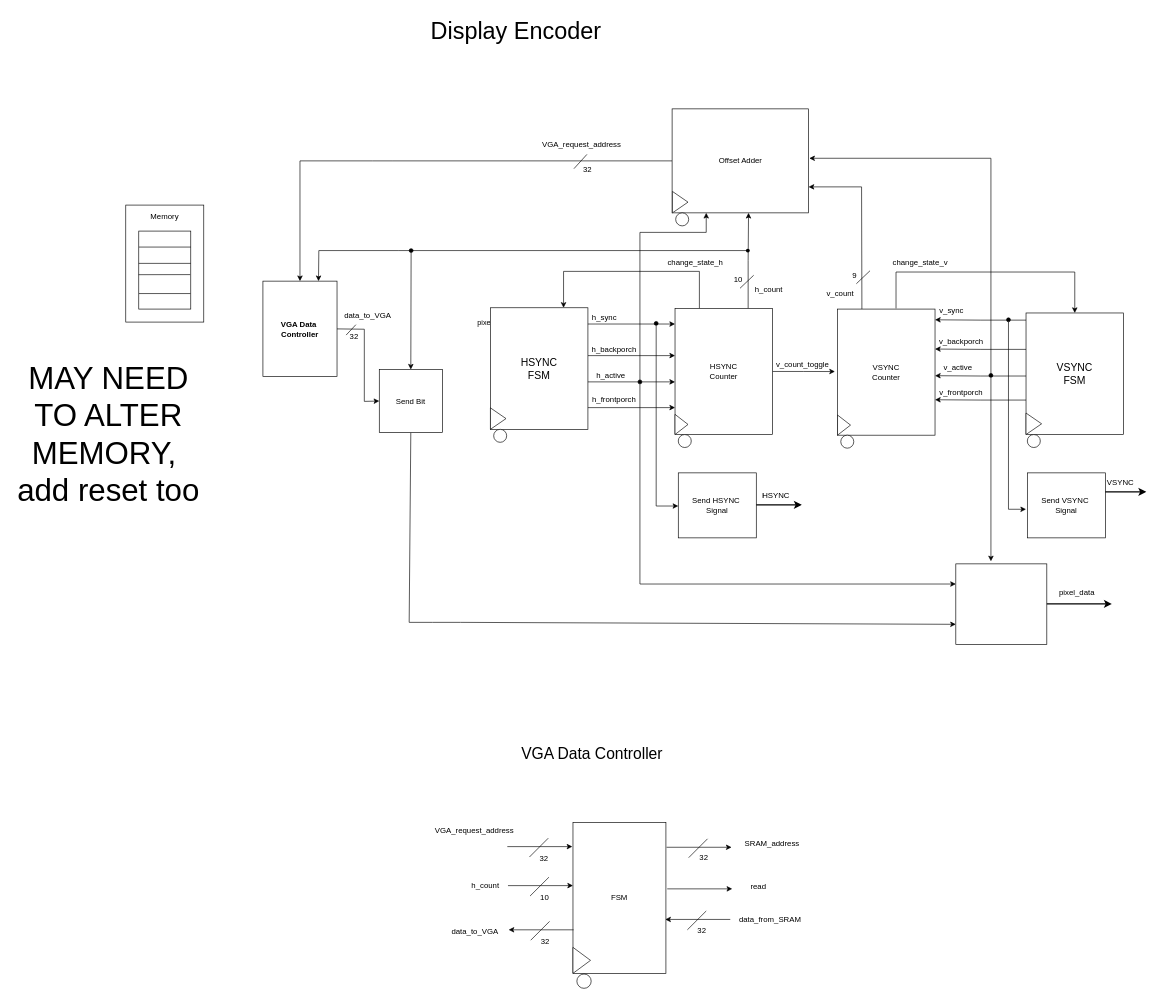
The diagram is 1163 pixels wide and 1000 high, and some of its shapes have lost their labels. Here are the shapes that lost their labels. From the top down, the centre of each, then its label:
At (164,269): "0xA0000000 0xA0000001 ... 0xA004AFFE 0xA004AFFF".
At (1001,603): "Enable Data Send".
